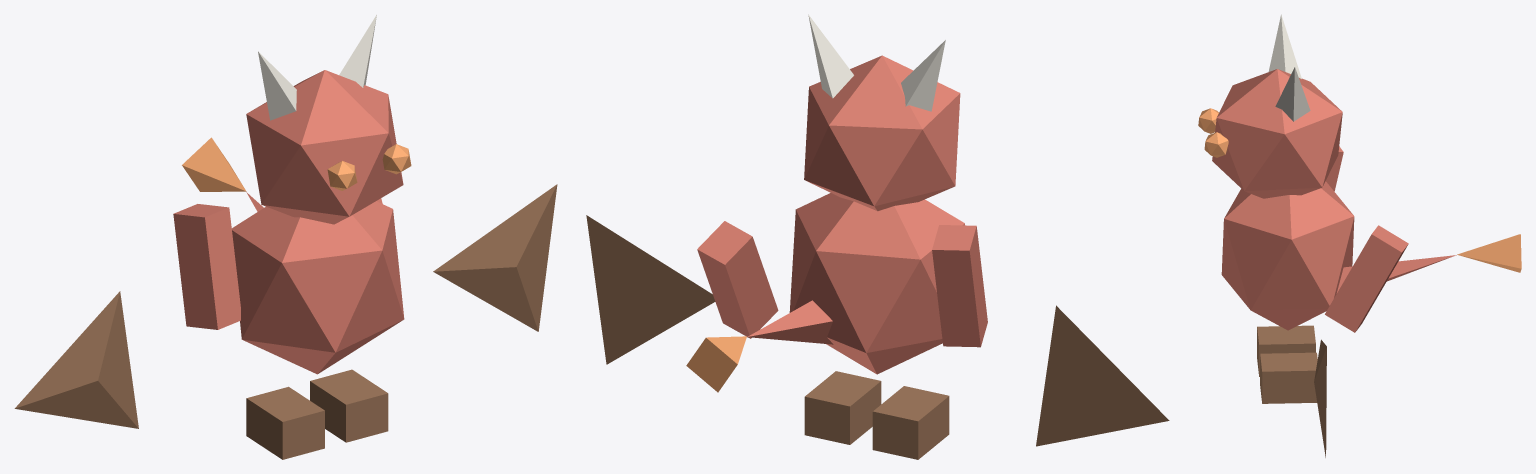
The model's file is npcpose_imp_idle_03.glb.
The picture shows the model from 3 angles, left to right: view 1: azimuth 30°, elevation 25°; view 2: azimuth 150°, elevation 25°; view 3: azimuth 270°, elevation 25°; orthographic projection. The views are drawn at different scales.
Visible parts, largest first — view 1: npcpose; view 2: npcpose; view 3: npcpose.
Part boxes in pixels (x1,y1,x2,y2): npcpose: (14, 14, 557, 459); npcpose: (586, 14, 1169, 459); npcpose: (1198, 14, 1521, 457).
Bounding box in the file's own units: 1.54 × 1.06 × 0.9098.
